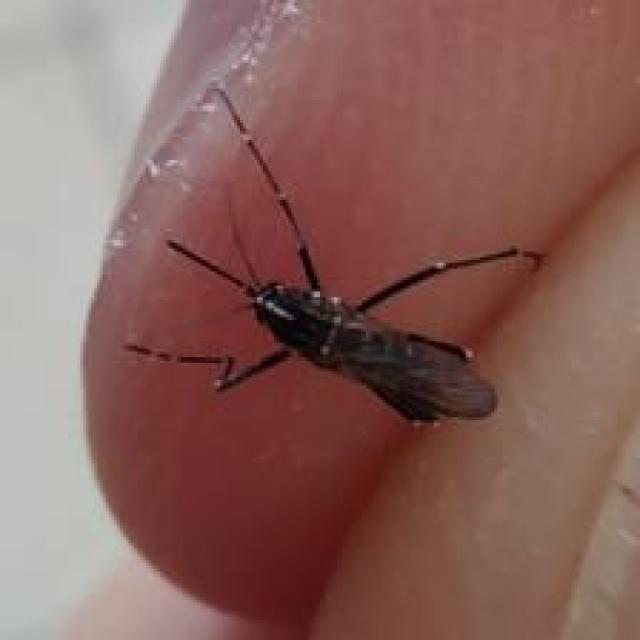Aedes albopictus: (122, 81, 547, 430)
